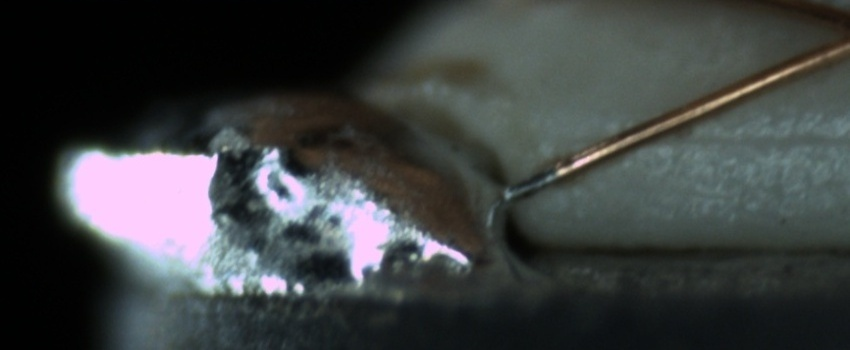DL: (645, 107, 848, 170)
TS: (502, 167, 558, 201)
TTCW: (504, 158, 570, 205)
